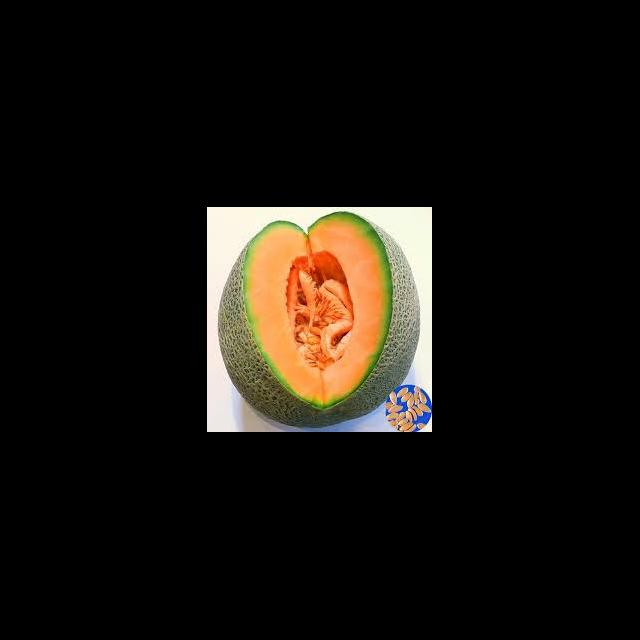Hami Melon: (218, 211, 421, 428)
